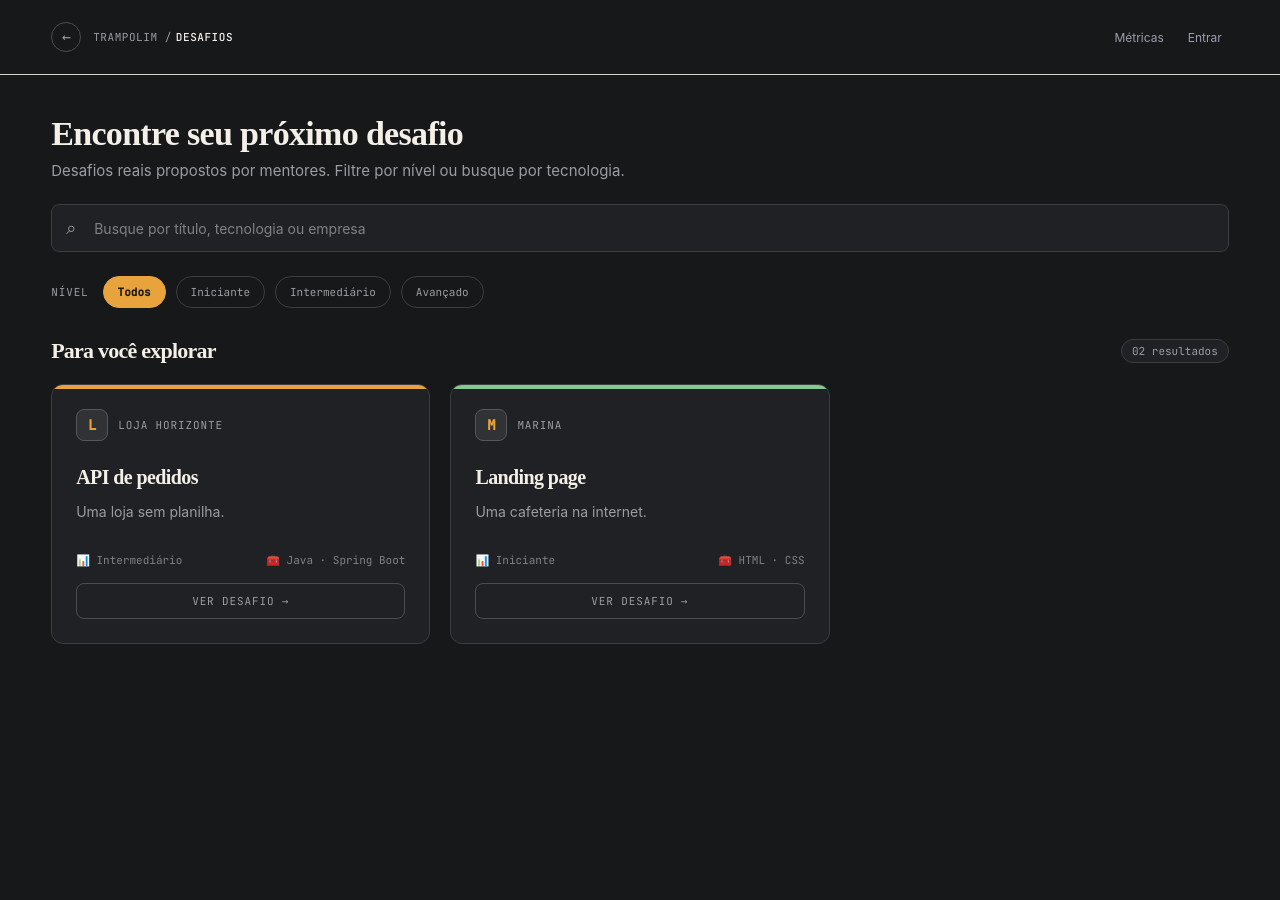
Test case: Lista de desafios › busca por tecnologia e filtra por nível
Expected: the heading "API de pedidos" is shown, [76, 466, 198, 488]
Type "spring" into the search field at {"x": 640, "y": 228}, box [51, 204, 1229, 252]
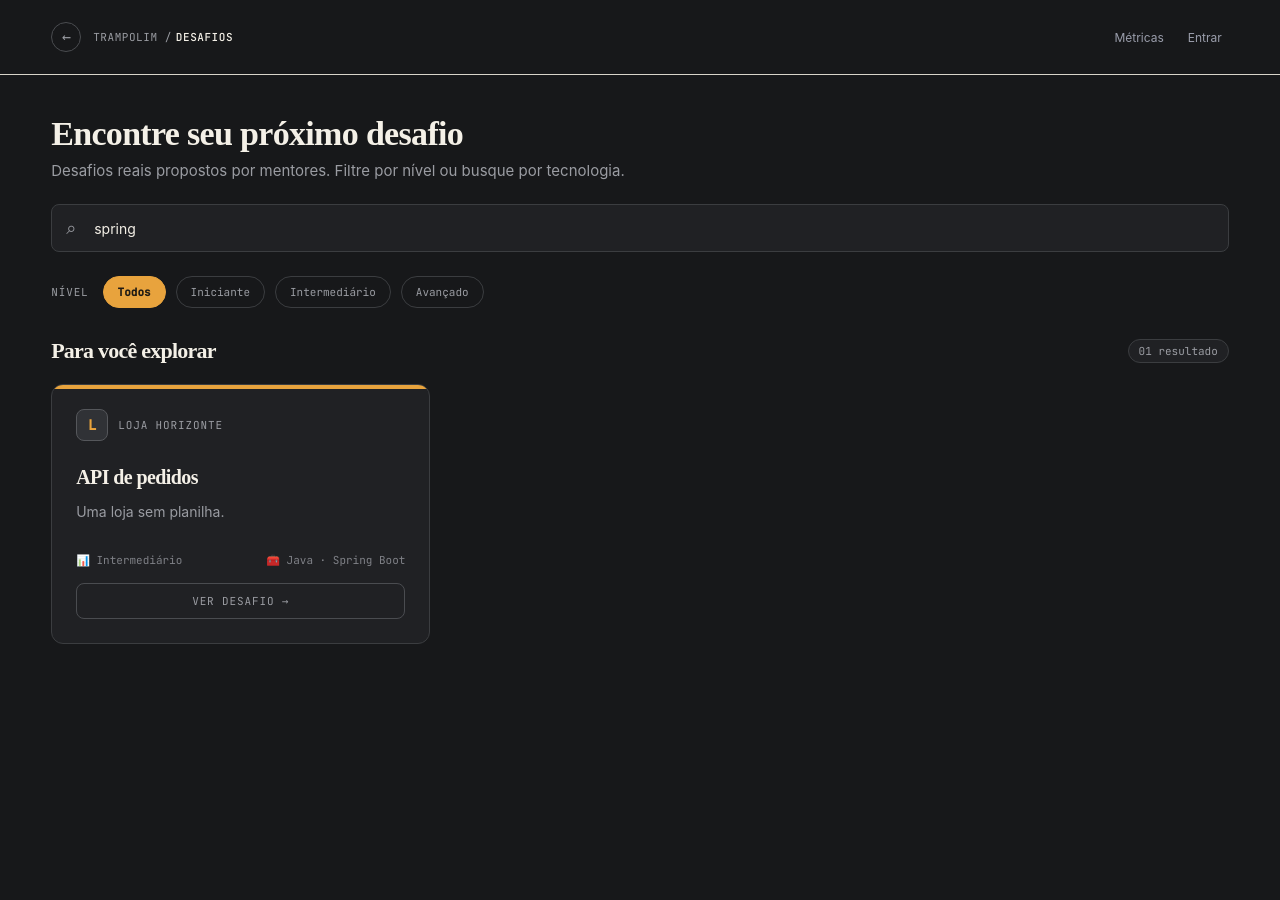
Expected: the text "01 resultado" is shown, [1128, 339, 1229, 363]
Expected: the heading "Landing page" is gone
Clear the search field at {"x": 640, "y": 228}, box [51, 204, 1229, 252]
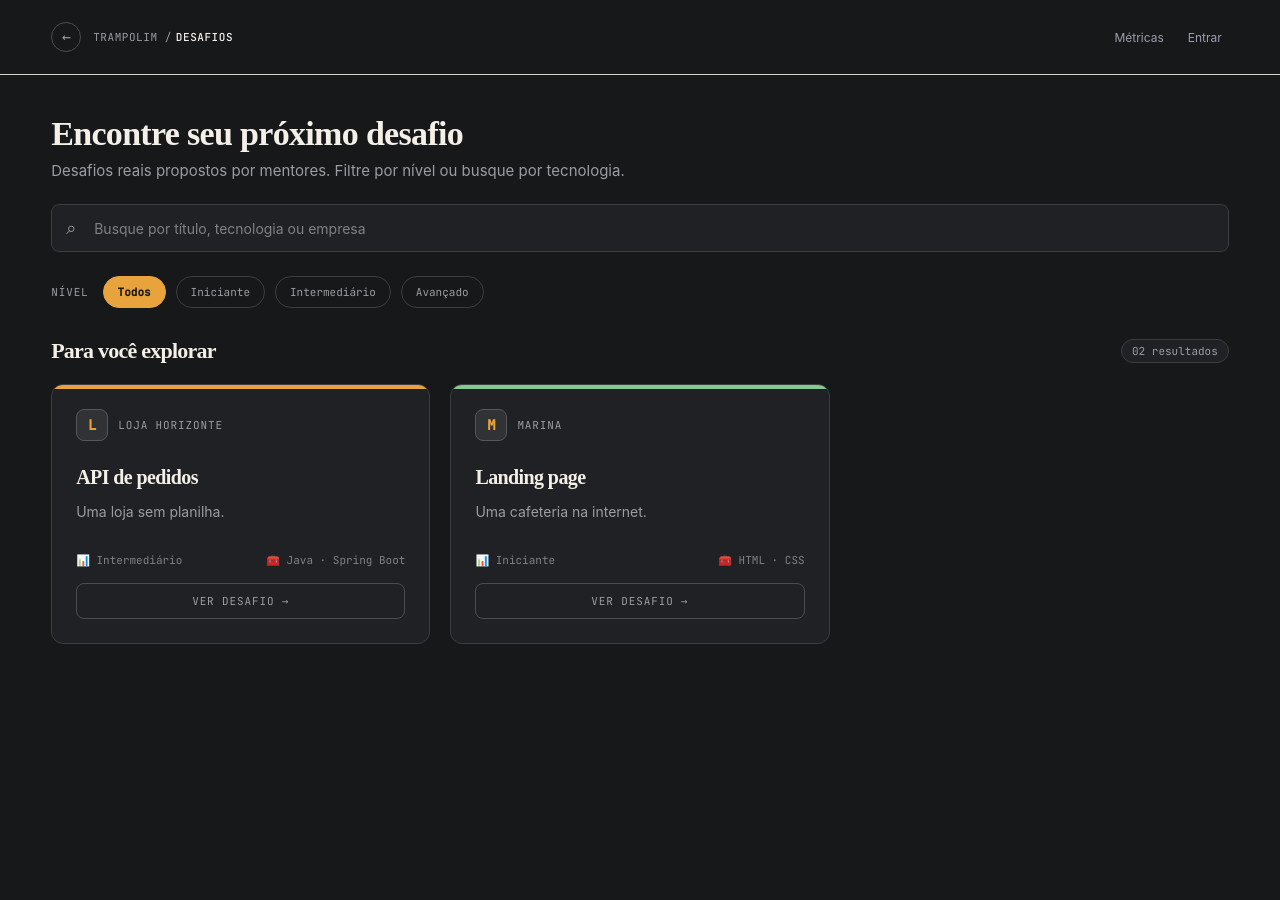
Click the button "Iniciante" at {"x": 220, "y": 292}, box [176, 276, 265, 308]
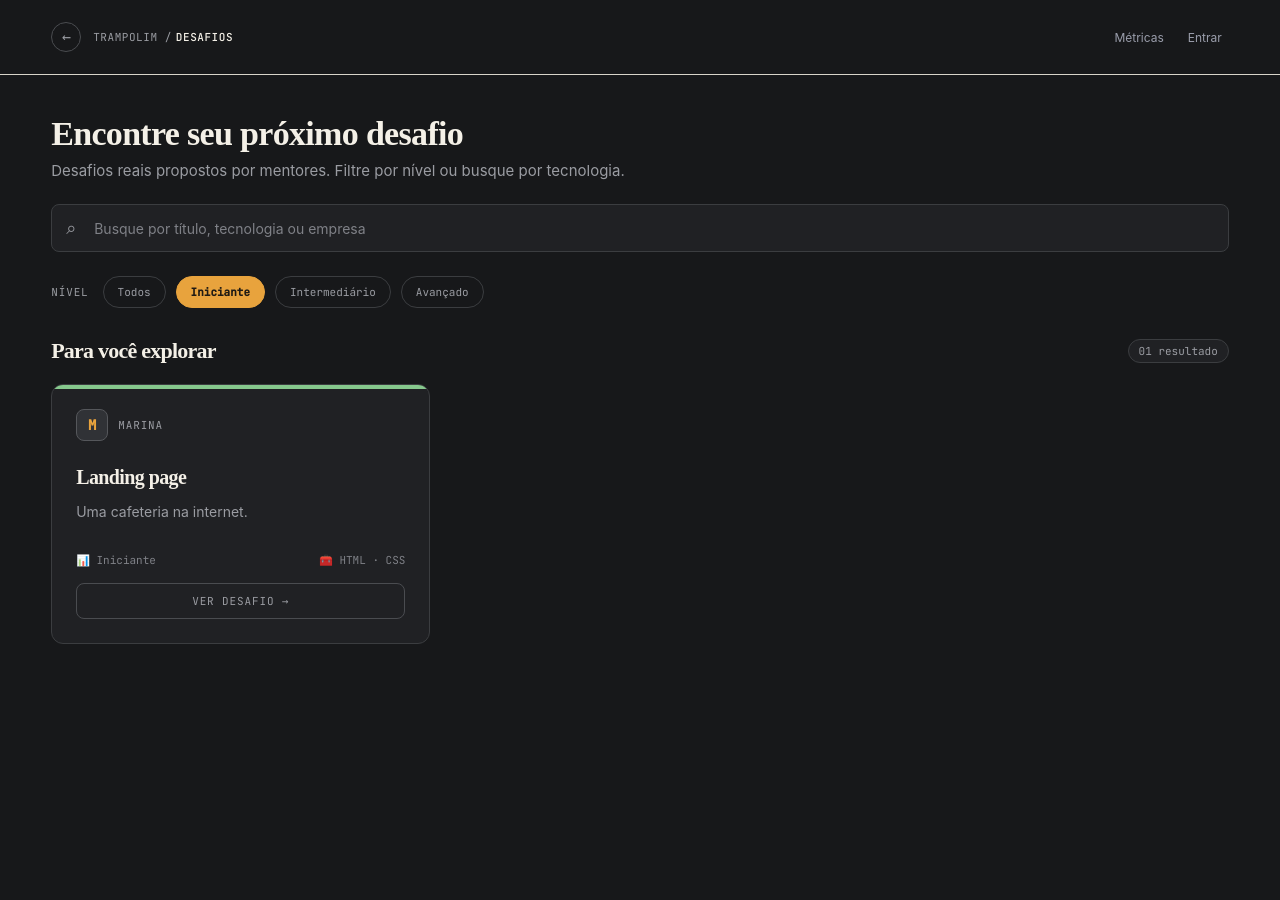
Expected: the heading "Landing page" is shown, [76, 466, 186, 488]
Expected: the heading "API de pedidos" is gone
Click the button "Avançado" at {"x": 442, "y": 292}, box [401, 276, 484, 308]
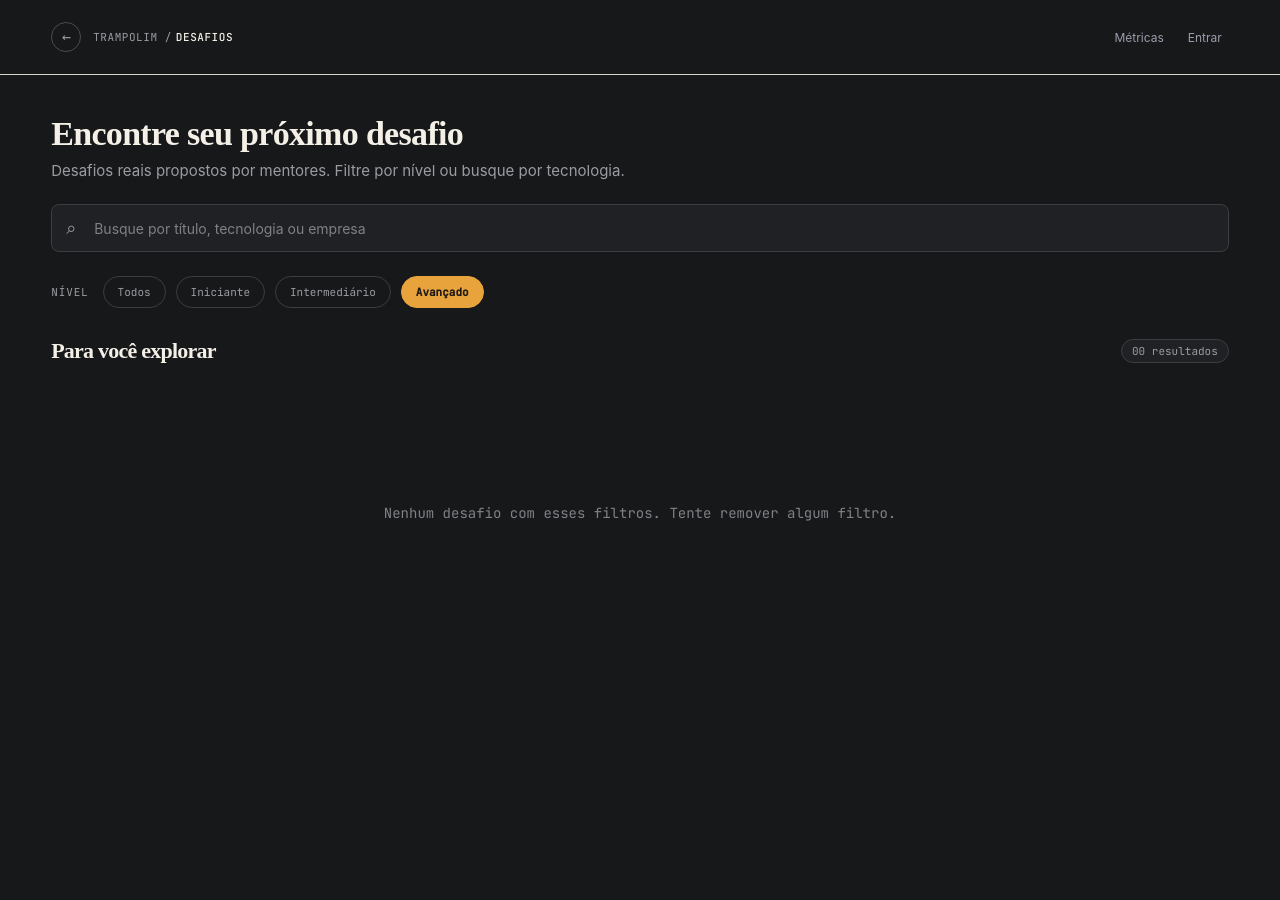
Expected: the text "Nenhum desafio com esses filtros. Tente remover algum filtro." is shown, [384, 504, 896, 522]
